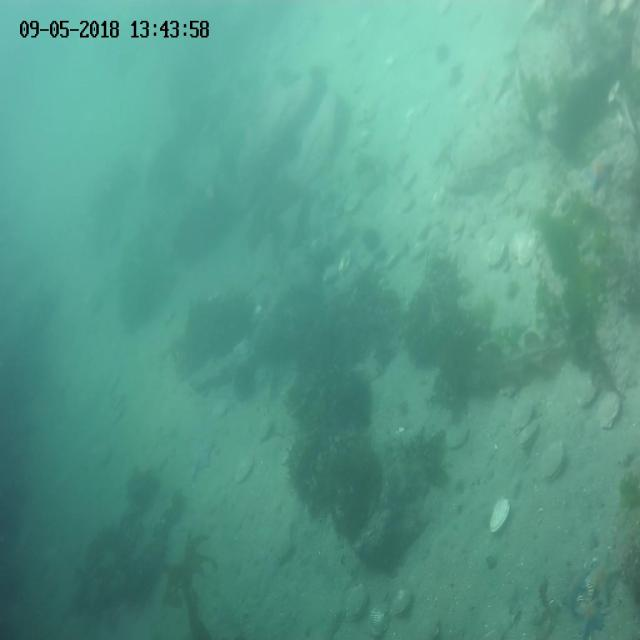scallop: (594, 388, 622, 432), (538, 442, 566, 483), (488, 494, 512, 536), (344, 582, 370, 620), (367, 600, 392, 639), (390, 584, 415, 618), (446, 421, 473, 452), (516, 421, 542, 450), (518, 234, 541, 265), (511, 403, 538, 429), (233, 455, 257, 484), (416, 614, 441, 640), (485, 242, 509, 268), (507, 166, 526, 198), (576, 386, 598, 411), (465, 212, 488, 232), (424, 225, 445, 246), (476, 224, 496, 246), (338, 250, 353, 277), (321, 263, 341, 283), (448, 215, 469, 231), (407, 244, 425, 262), (344, 196, 363, 213), (414, 218, 430, 237), (401, 170, 417, 188), (400, 195, 415, 213)
starfish: (590, 551, 623, 597), (586, 152, 616, 195), (580, 595, 607, 640), (189, 439, 215, 479)
